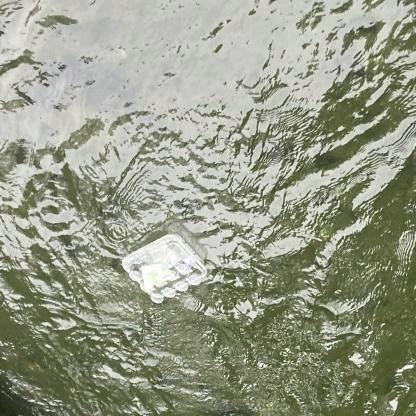Plastic: (118, 225, 210, 311)
